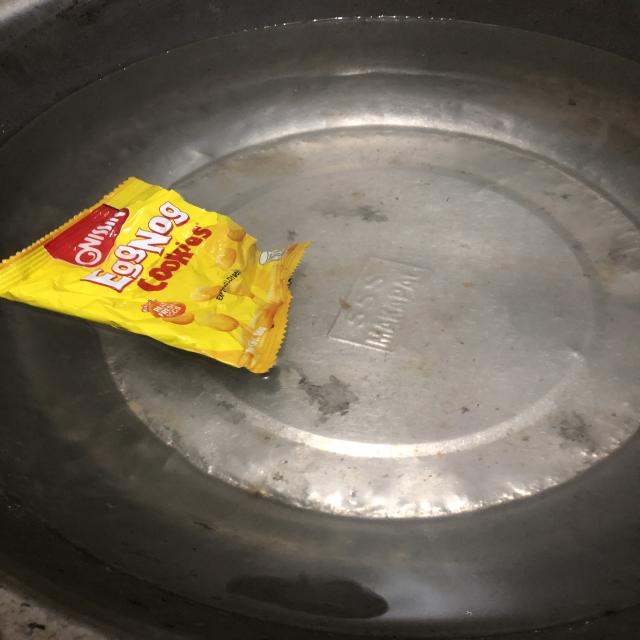Plastic Wrapper: (0, 178, 309, 373)
